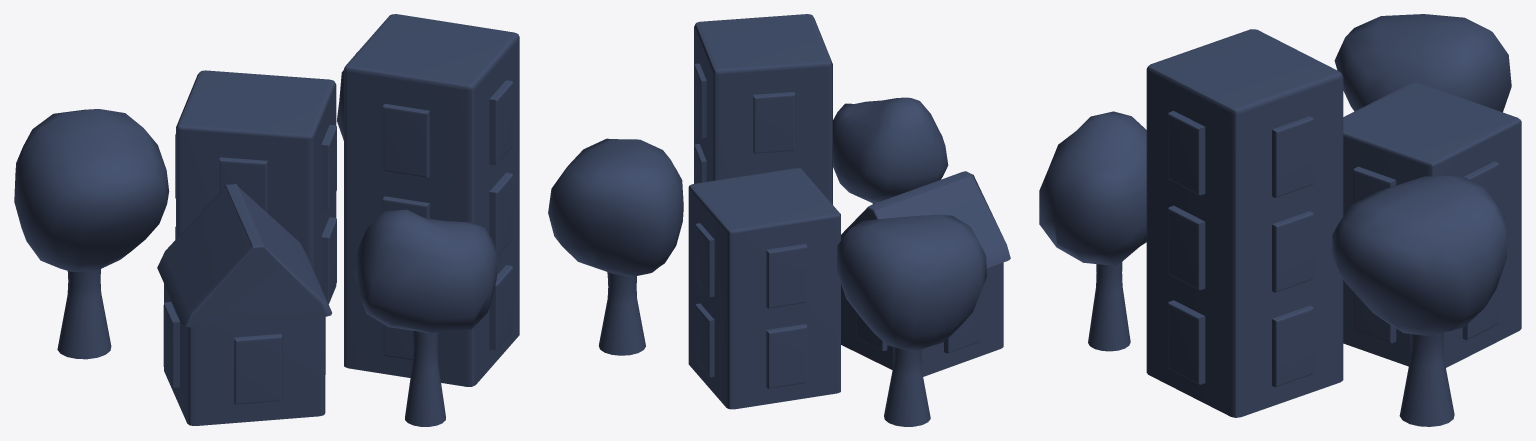
The model's file is City2.fbx.
The picture shows the model from 3 angles, left to right: view 1: azimuth 30°, elevation 25°; view 2: azimuth 150°, elevation 25°; view 3: azimuth 270°, elevation 25°; orthographic projection. The views are drawn at different scales.
Parts seen in each view (by area): view 1: City2; view 2: City2; view 3: City2.
Part boxes in pixels (x1,y1,x2,y2): City2: [14, 14, 519, 426]; City2: [548, 14, 1010, 426]; City2: [1039, 14, 1521, 426].
Bounding box in the file's own units: 3.13 × 1.92 × 2.7.
